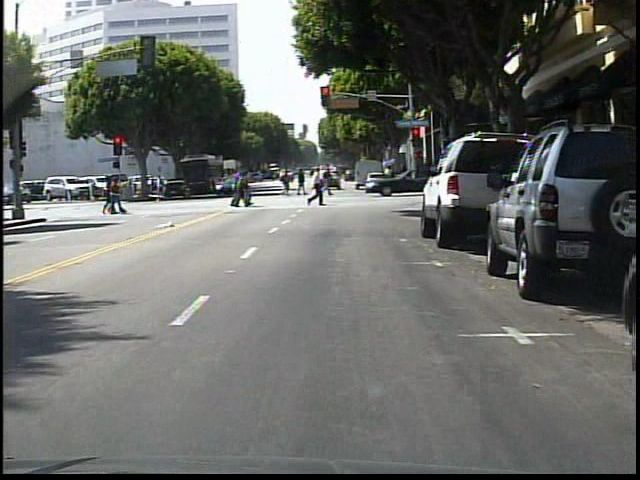person: (306, 166, 329, 213), (151, 171, 170, 201), (322, 167, 338, 196)
